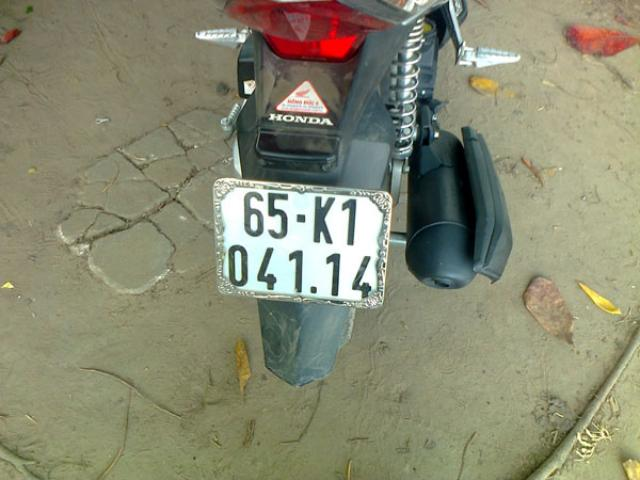plate: (218, 182, 384, 302)
